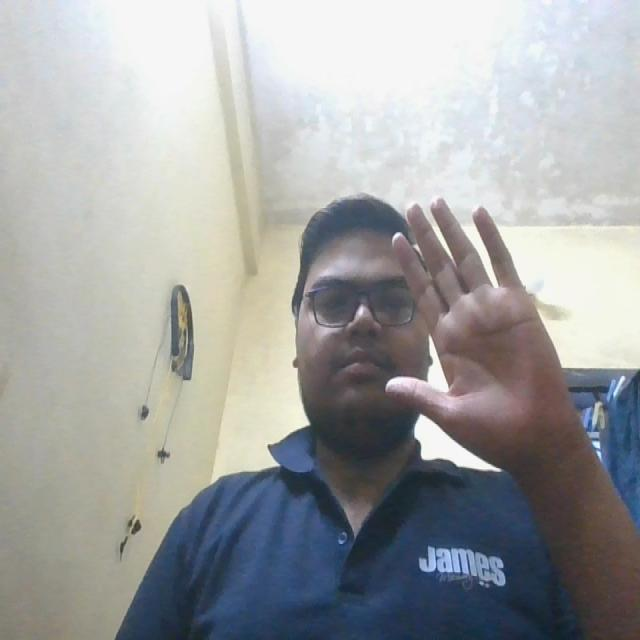Hello: (378, 188, 584, 478)
